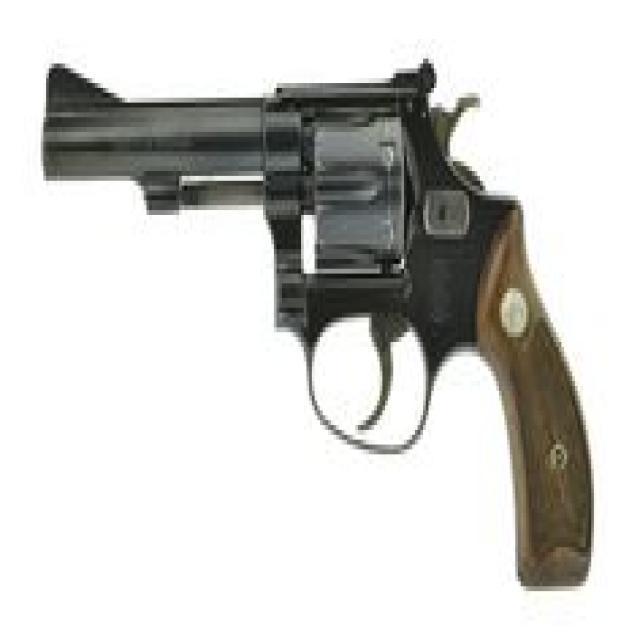revolver: (27, 30, 616, 624)
